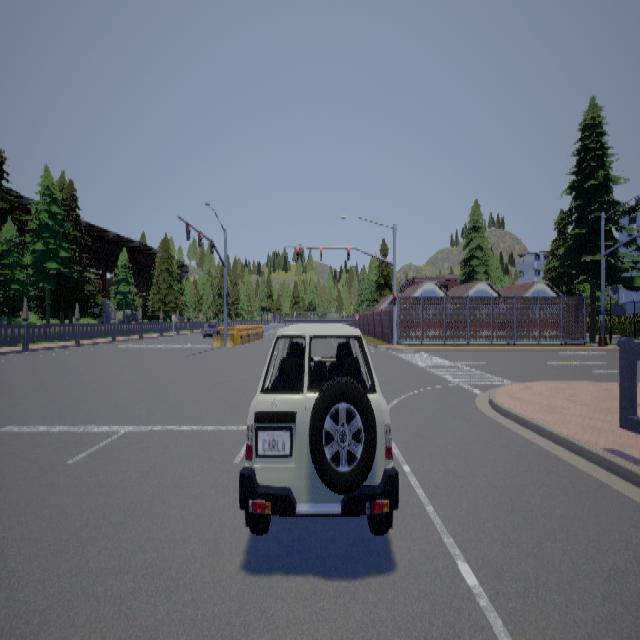red_light: (186, 222, 190, 240), (198, 230, 202, 247), (210, 238, 213, 254), (393, 291, 396, 305), (348, 247, 350, 260), (320, 247, 322, 260), (296, 246, 298, 259)
traffic_light: (225, 291, 228, 305)
vehicle: (238, 310, 398, 534)
